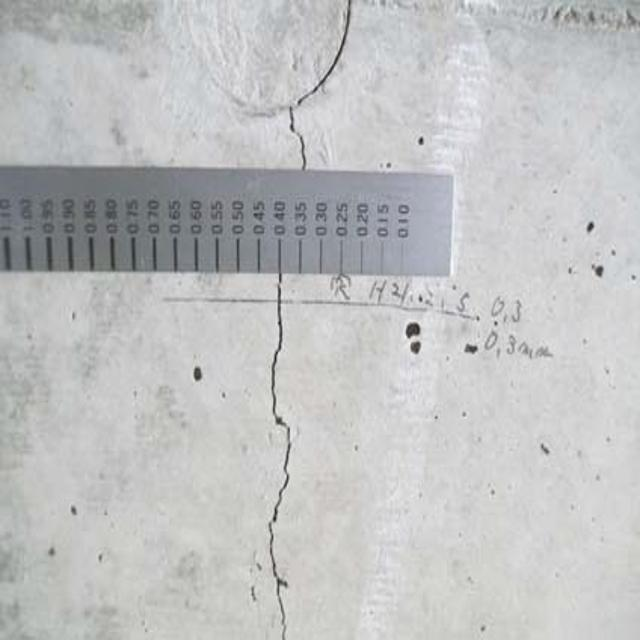crack: (241, 277, 340, 636), (270, 0, 365, 181)
